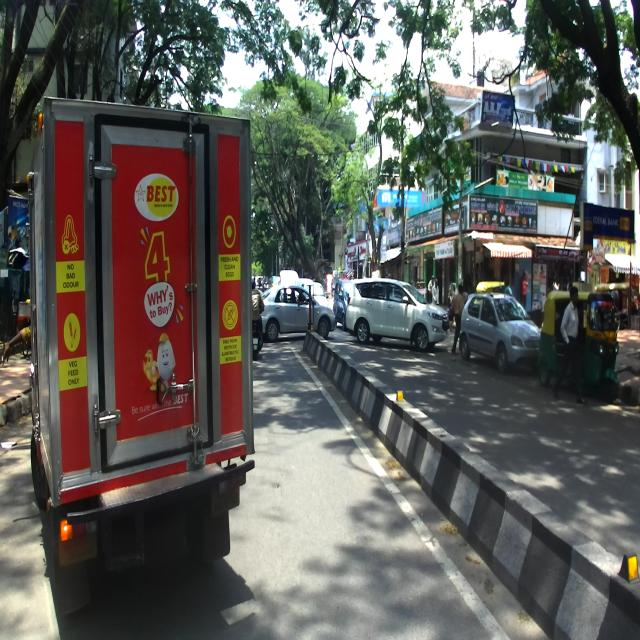car ahead at: (345, 278, 447, 362), (459, 293, 537, 369), (265, 281, 333, 340)
truck ahead at: (30, 86, 258, 606)
